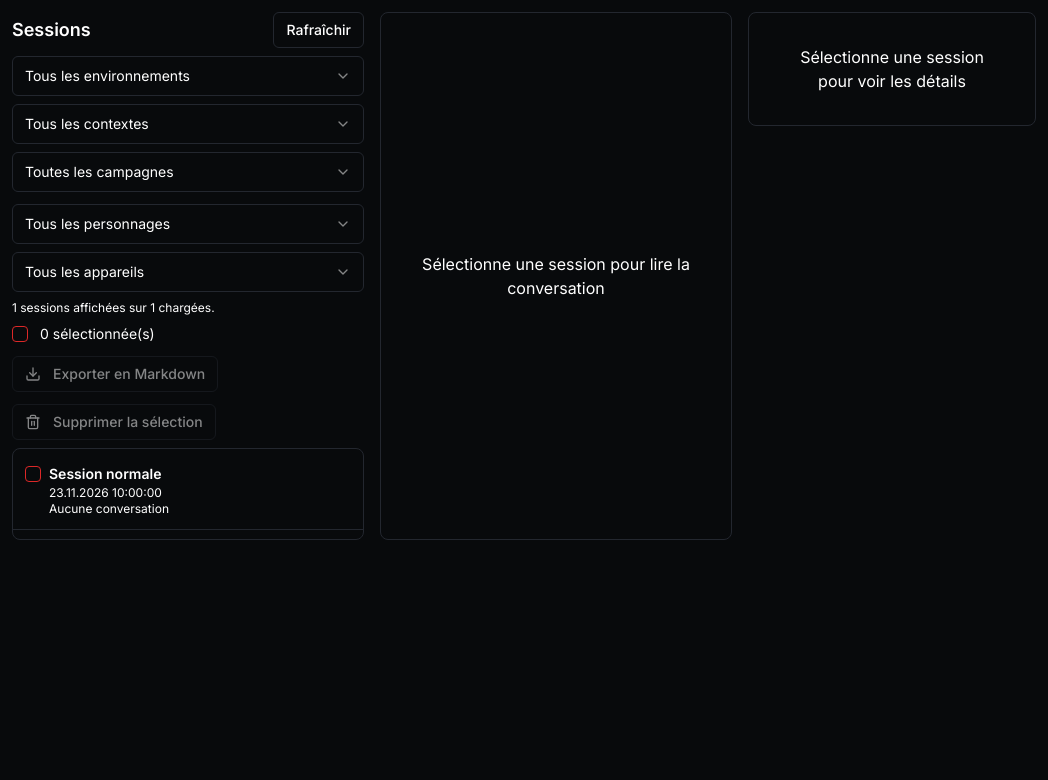
Test: SessionsTab — lecture d'une session › signale un tour joueur dont la réponse n'est pas dans le journal
Click the text "Session normale": (105, 474) [49, 465, 161, 482]
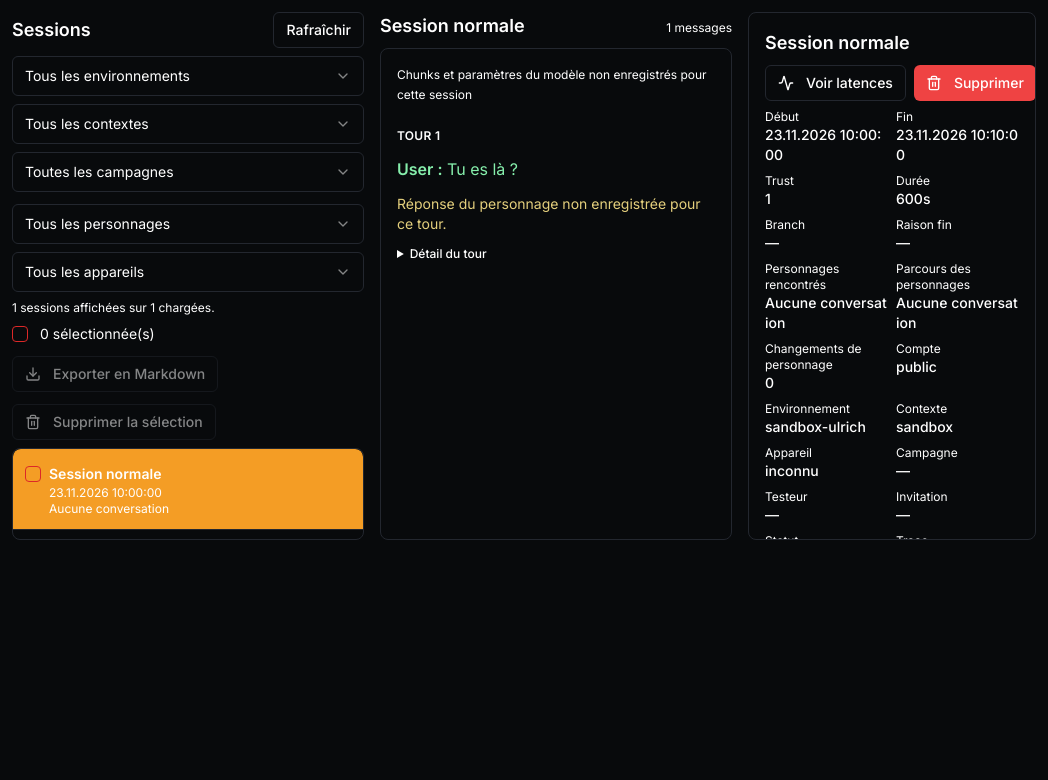
Check: the text with test id "missing-character-reply" reads "Réponse du personnage non enregistrée pour ce tour.", box [397, 195, 701, 232]
